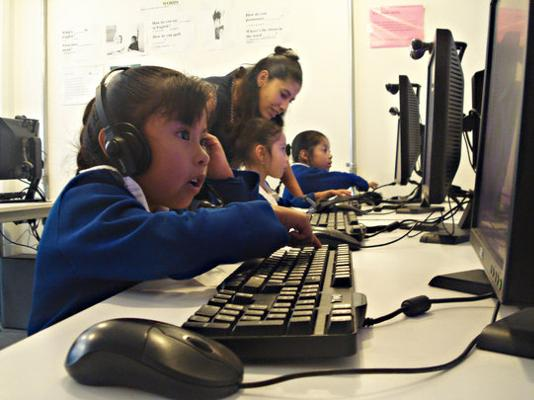person: (26, 65, 324, 338)
